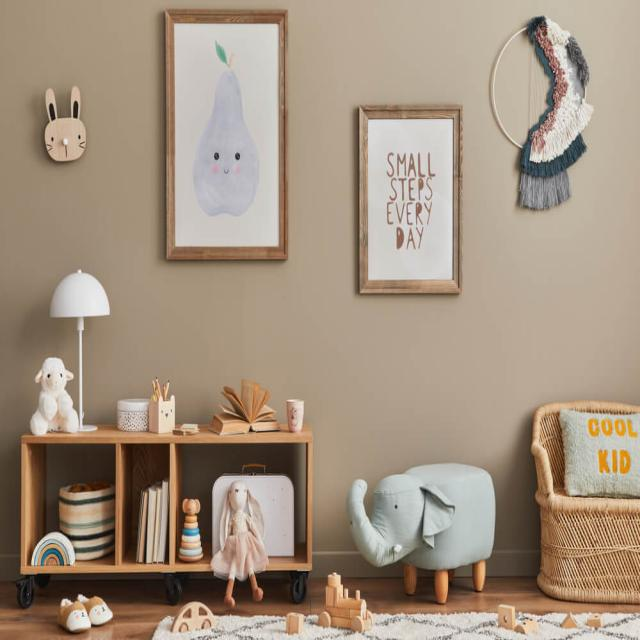modern shelf: (25, 404, 323, 589)
